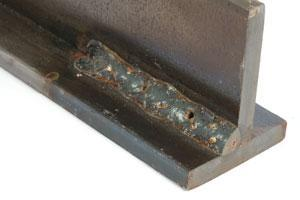porosity: (174, 103, 203, 127)
